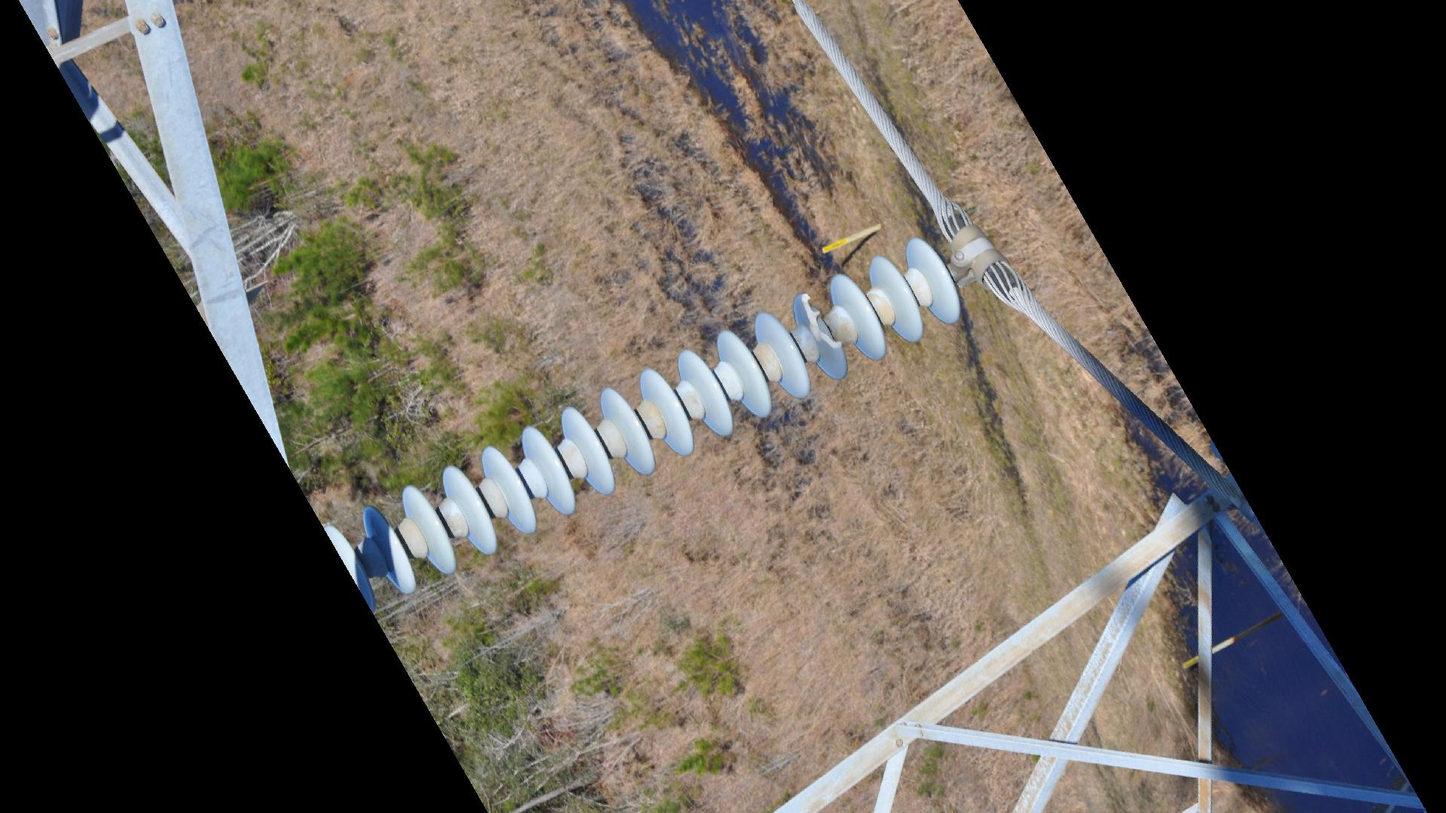insulator: (318, 230, 969, 607)
insulator_breakage: (795, 288, 848, 356)
